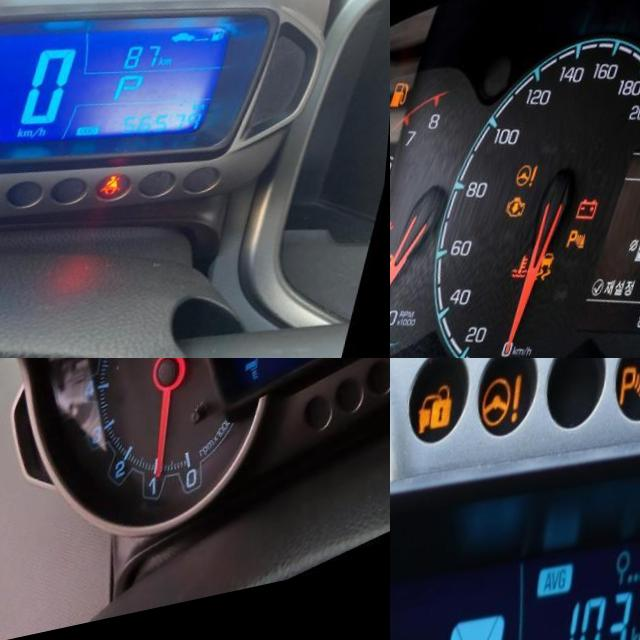Doors: (150, 358, 171, 364)
Engine cooling system: (514, 263, 538, 293)
Low fuel level: (390, 83, 414, 117)
